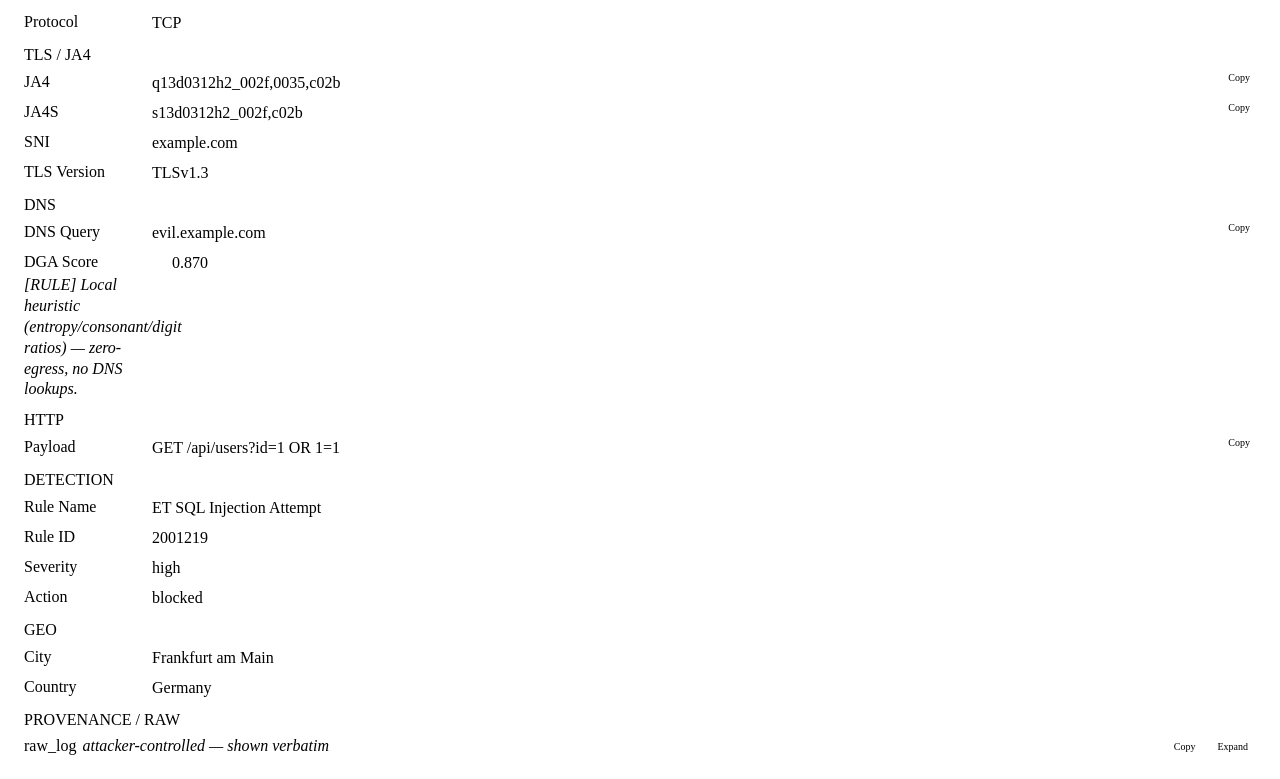
LogDetailPanel — #715 raw_log (ADR-0063 D3) › raw_log expands when the Expand button is clicked
(page scrolled)
Click the button with test id "raw-log-toggle" at (1233, 746), box [1210,740,1256,753]
(page scrolled)
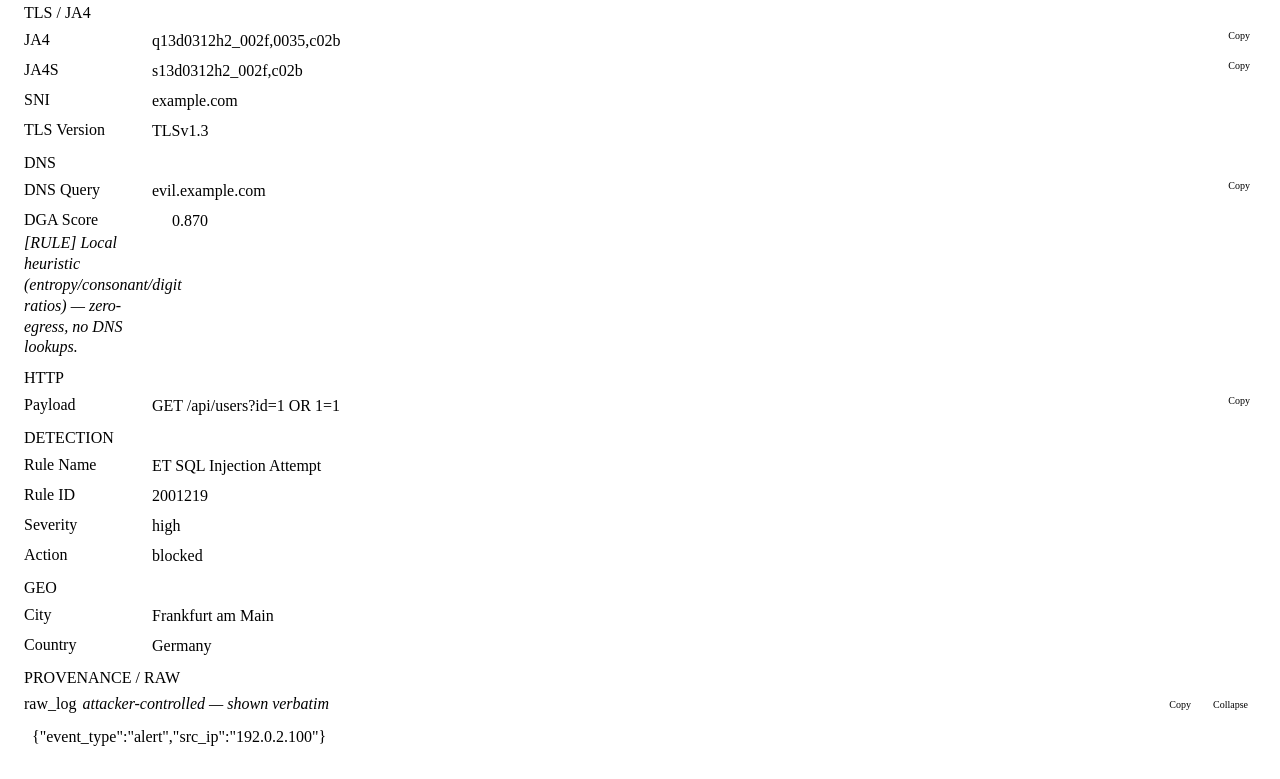
Expected: the text "{\"event_type\":\"alert\",\"src_ip\":\"192.0.2.100\"}" is shown, [32,728,326,745]
